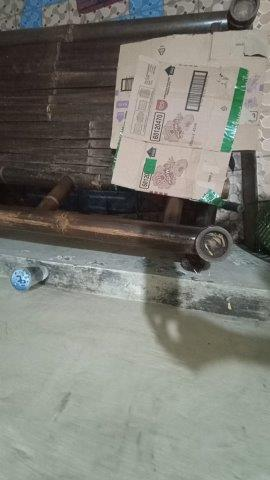kardus: (111, 32, 266, 200)
